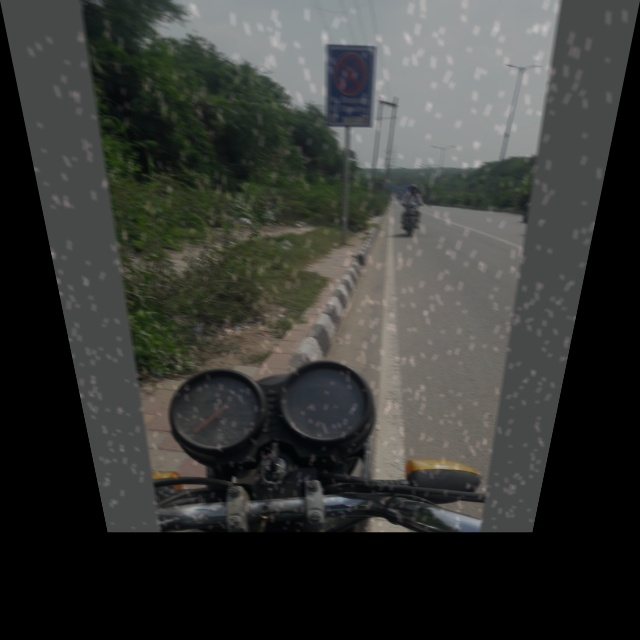No_Stopping_or_Standing: (327, 45, 377, 100)
